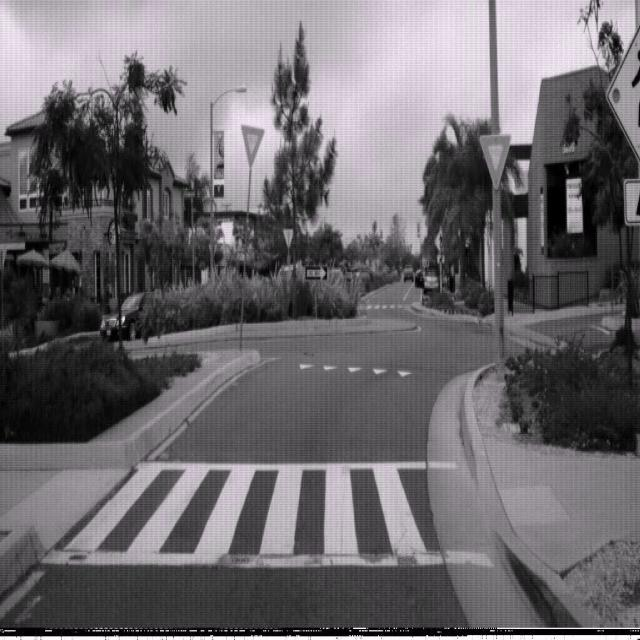pedestrianCrossing: (432, 226, 448, 255)
yield: (479, 132, 512, 190), (240, 122, 264, 166)
